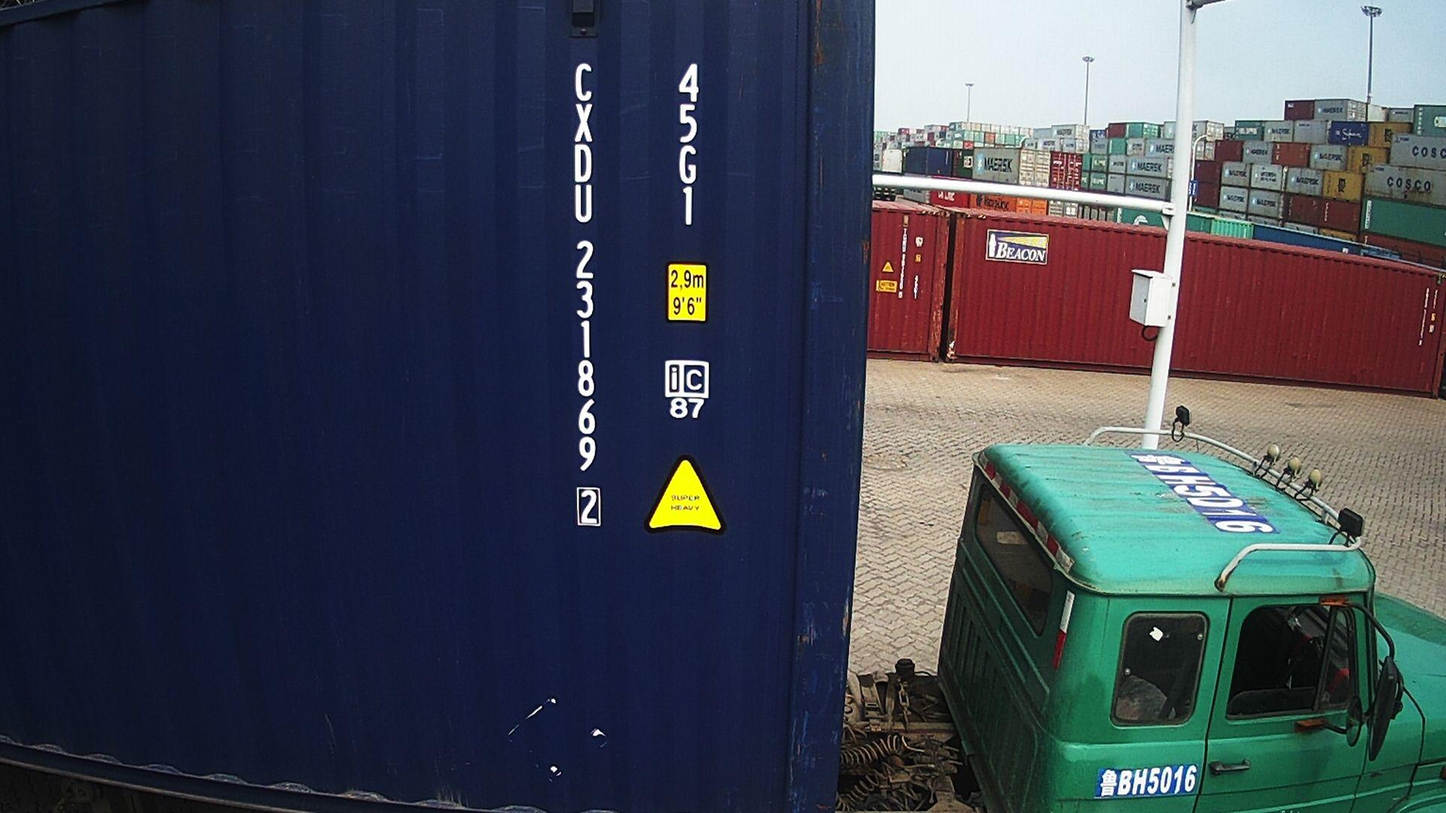container-numbers: (565, 57, 607, 534), (671, 58, 706, 231)
